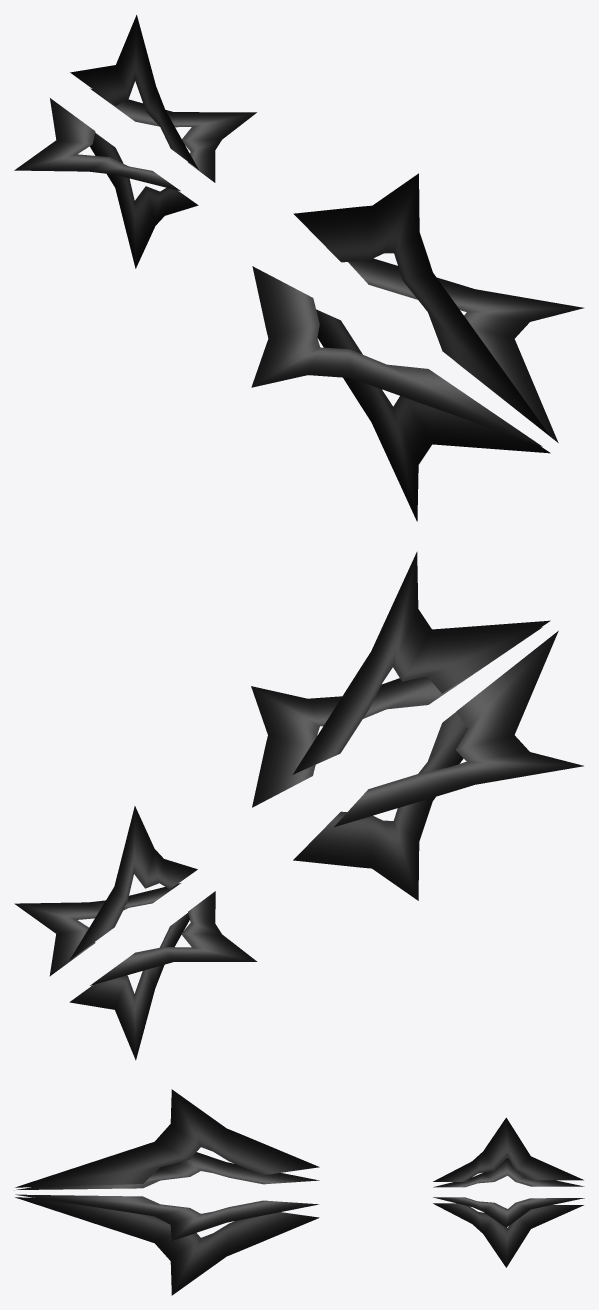
The model's file is shengtianshiquanzhang002.fbx.
3 views of the same model, one above another, from view 1: azimuth 30°, elevation 25°; view 2: azimuth 150°, elevation 25°; view 3: azimuth 270°, elevation 25° (orthographic). The views are drawn at different scales.
Parts seen in each view (by area): view 1: shengtianshiquanzhang002; view 2: shengtianshiquanzhang002; view 3: shengtianshiquanzhang002.
Boxes of the visible parts, left/top/right/bottom form: shengtianshiquanzhang002: left=14, top=15, right=583, bottom=521; shengtianshiquanzhang002: left=14, top=551, right=583, bottom=1060; shengtianshiquanzhang002: left=14, top=1089, right=584, bottom=1295.
Size of the model in its own units: 304 by 304 by 759.
